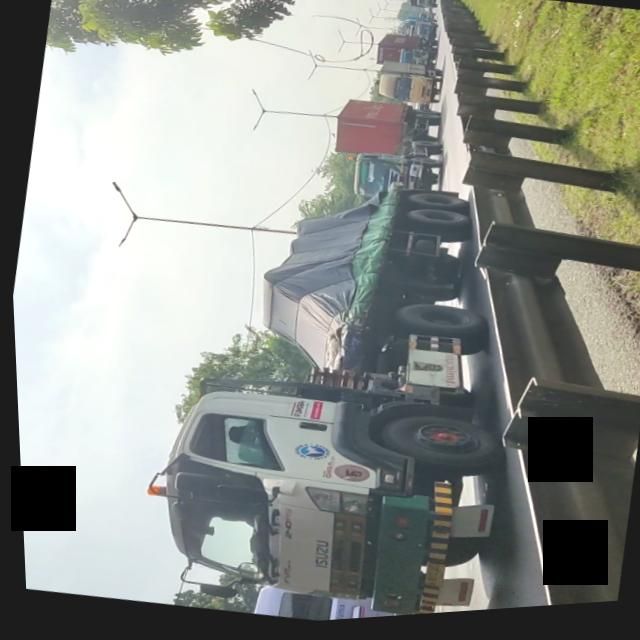Golongan IV: (113, 146, 566, 634), (327, 95, 455, 220)
